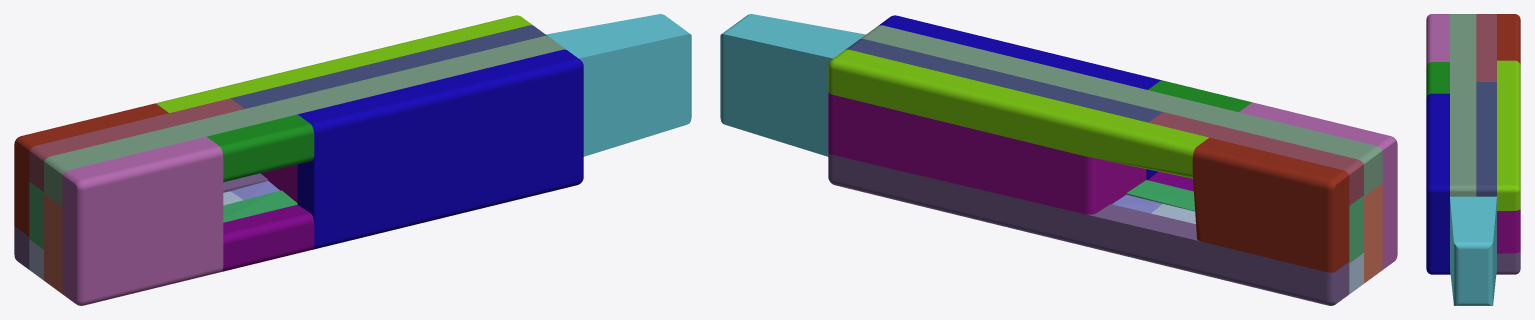
The model's file is 2_body.obj.
3 renders of one model, left to right at view 1: azimuth 30°, elevation 25°; view 2: azimuth 150°, elevation 25°; view 3: azimuth 270°, elevation 25°, orthographic. The views are drawn at different scales.
Parts seen in each view (by area): view 1: geometry_5, geometry_7, geometry_2, geometry_0, geometry_4, geometry_8, geometry_16, geometry_11, geometry_13, geometry_15, geometry_9, geometry_10 (+5 smaller); view 2: geometry_1, geometry_4, geometry_14, geometry_15, geometry_2, geometry_0, geometry_16, geometry_7, geometry_5, geometry_13, geometry_9, geometry_8 (+5 smaller); view 3: geometry_2, geometry_0, geometry_5, geometry_4, geometry_16, geometry_13, geometry_7, geometry_15, geometry_14, geometry_8, geometry_1.
Boxes of the visible parts, x1,y1,x2,y2 form: geometry_5: (297,49,583,249); geometry_7: (62,136,223,305); geometry_2: (546,14,691,156); geometry_0: (44,36,566,206); geometry_4: (156,15,532,112); geometry_8: (207,114,314,182); geometry_16: (231,25,547,108); geometry_11: (222,204,314,271); geometry_13: (29,98,244,191); geometry_15: (14,103,168,236); geometry_9: (44,194,62,294); geometry_10: (223,190,297,222); geometry_1: (828,152,1349,305); geometry_4: (828,49,1208,178); geometry_14: (828,92,1146,214); geometry_15: (1192,137,1349,272); geometry_2: (720,14,865,156); geometry_0: (860,25,1382,196); geometry_16: (845,39,1162,122); geometry_7: (1239,102,1397,269); geometry_5: (878,15,1161,180); geometry_13: (1149,112,1363,205); geometry_9: (1364,183,1382,283); geometry_8: (1148,80,1252,112); geometry_2: (1450,196,1496,305); geometry_0: (1450,14,1476,196); geometry_5: (1426,93,1449,274); geometry_4: (1497,60,1520,210); geometry_16: (1476,82,1496,196); geometry_13: (1476,14,1496,81); geometry_7: (1426,14,1449,66); geometry_15: (1497,14,1520,64); geometry_14: (1497,209,1520,253); geometry_8: (1426,62,1449,97); geometry_1: (1497,251,1520,274).
Size of the model in its own units: 0.1901 by 0.036 by 0.0345.
